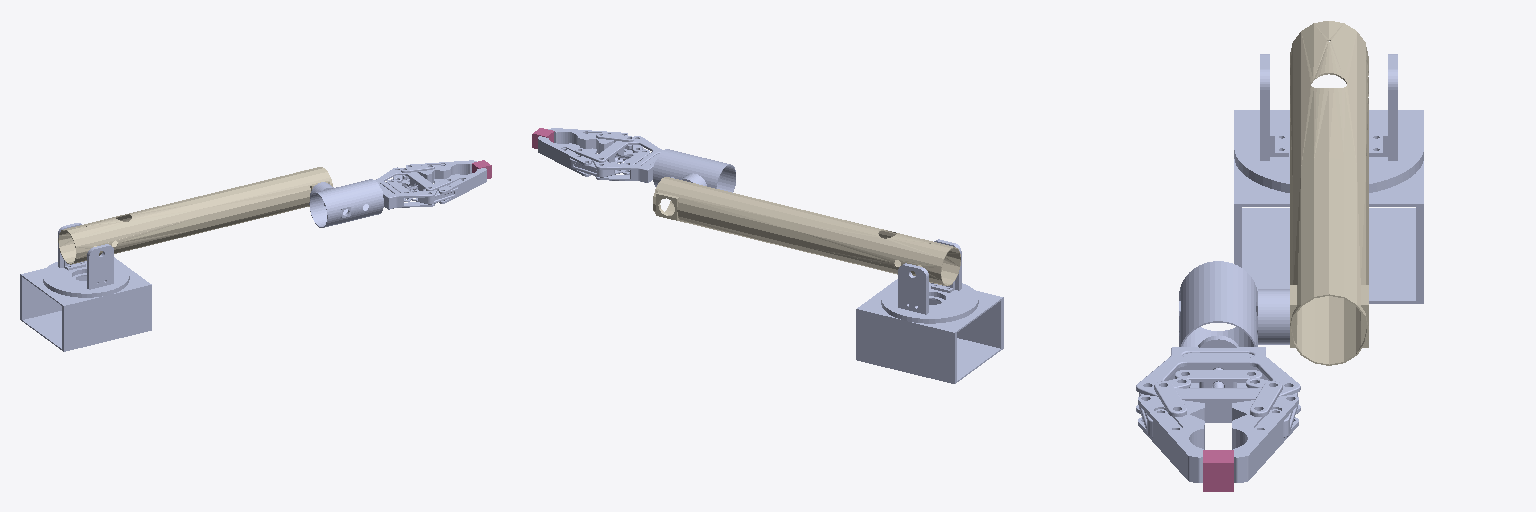
robot.urdf — msv_3dof_arm:
<?xml version="1.0" encoding="utf-8"?>
<!-- This URDF was automatically created by SolidWorks to URDF Exporter! Originally created by [author] ([email redacted]) 
     Commit Version: 1.6.0-1-g15f4949  Build Version: 1.6.7594.29634
     For more information, please see http://wiki.ros.org/sw_urdf_exporter -->
<robot
  name="msv_3dof_arm">
 
 
  <link name="base_link">
    <inertial>
      <origin
        xyz="0 0 0.07"
        rpy="1.570796327 0 0" />
      <mass
        value="0.156772566611769" />
      <inertia
        ixx="0.000494148301397321"
        ixy="-2.6240374845148E-21"
        ixz="-7.90564084104019E-21"
        iyy="0.000368498301397322"
        iyz="-2.92371927043028E-20"
        izz="0.000646691913743825" />
    </inertial>
    <visual>
      <origin
        xyz="0 0 0.07"
        rpy="1.570796327 0 0" />
      <geometry>
        <mesh
          filename="package://msv_3dof_arm/meshes/base_link.STL" />
      </geometry>
      <material
        name="">
        <color
          rgba="0.792156862745098 0.819607843137255 0.933333333333333 1" />
      </material>
    </visual>
    <collision>
      <origin
        xyz="0 0 0.07"
        rpy="1.570796327 0 0" />
      <geometry>
        <mesh
          filename="package://msv_3dof_arm/meshes/base_link.STL" />
      </geometry>
    </collision>
  </link>


  <link name="link1">
    <inertial>
      <origin
        xyz="0.110728673410591 -0.0092714182188576 -0.0425649356498366"
        rpy="1.570796327 0 0" />
      <mass
        value="0.433898677133809" />
      <inertia
        ixx="0.0016639828460917"
        ixy="0.00120863202140725"
        ixz="-0.00204502780751148"
        iyy="0.0125493047119251"
        iyz="0.000171227036330293"
        izz="0.0124511366596275" />
    </inertial>
    <visual>
      <origin
        xyz="0 0 -0.05635"
        rpy="1.570796327 0 0" />
      <geometry>
        <mesh
          filename="package://msv_3dof_arm/meshes/link1.STL" />
      </geometry>
      <material
        name="">
        <color
          rgba="0.792156862745098 0.819607843137255 0.933333333333333 1" />
      </material>
    </visual>
    <collision>
      <origin
        xyz="0 0 -0.05635"
        rpy="1.570796327 0 0" />
      <geometry>
        <mesh
          filename="package://msv_3dof_arm/meshes/link1.STL" />
      </geometry>
    </collision>
  </link>


  <joint name="joint_base"  type="revolute">
    <origin
      xyz="0 0 0.12635"
      rpy="0 0 0" />
    <parent
      link="base_link" />
    <child
      link="link1" />
    <axis
      xyz="0 0 1" />
    <limit
      lower="-6.283185307"
      upper="6.283185307"
      effort="10"
      velocity="5" />
  </joint>


  <link  name="link2">
    <inertial>
      <origin
        xyz="0.184976916380391 0 0"
        rpy="0 0 0" />
      <mass
        value="0.114971943053287" />
      <inertia
        ixx="6.92181720797658E-05"
        ixy="6.99722840783902E-10"
        ixz="1.68954468947633E-09"
        iyy="0.00172567923104233"
        iyz="4.70686983653976E-09"
        izz="0.0017235177638611" />
    </inertial>
    <visual>
      <origin
        xyz="0 -0.05635 0"
        rpy="0 0 0" />
      <geometry>
        <mesh
          filename="package://msv_3dof_arm/meshes/link2.STL" />
      </geometry>
      <material
        name="">
        <color
          rgba="0.843137254901961 0.815686274509804 0.752941176470588 1" />
      </material>
    </visual>
    <collision>
      <origin
        xyz="0 -0.05635 0"
        rpy="0 0 0" />
      <geometry>
        <mesh
          filename="package://msv_3dof_arm/meshes/link2.STL" />
      </geometry>
    </collision>
  </link>


  <joint name="joint_shoulder" type="revolute">
    <origin
      xyz="0 0 0"
      rpy="1.5708 0 0" />
    <parent
      link="link1" />
    <child
      link="link2" />
    <axis
      xyz="0 0 1" />
    <limit
      lower="0"
      upper="1.5707963"
      effort="10"
      velocity="5" />
  </joint>


  <link name="link3">
    <inertial>
      <origin
        xyz="-0.249271326589409 -0.0425649356498366 0.00927141821885761"
        rpy="0 0 0" />
      <mass
        value="0.433898677133809" />
      <inertia
        ixx="0.0016639828460917"
        ixy="-0.00204502780751148"
        ixz="-0.00120863202140725"
        iyy="0.0124511366596275"
        iyz="-0.000171227036330293"
        izz="0.0125493047119251" />
    </inertial>
    <visual>
      <origin
        xyz="-0.36 -0.05635 0"
        rpy="0 0 0" />
      <geometry>
        <mesh
          filename="package://msv_3dof_arm/meshes/link3.STL" />
      </geometry>
      <material
        name="">
        <color
          rgba="0.792156862745098 0.819607843137255 0.933333333333333 1" />
      </material>
    </visual>
    <collision>
      <origin
        xyz="-0.36 -0.05635 0"
        rpy="0 0 0" />
      <geometry>
        <mesh
          filename="package://msv_3dof_arm/meshes/link3.STL" />
      </geometry>
    </collision>
  </link>


  <joint  name="joint_elbow" type="revolute">
    <origin
      xyz="0.36 0 0"
      rpy="0 0 0" />
    <parent
      link="link2" />
    <child
      link="link3" />
    <axis
      xyz="0 0 1" />
    <limit
      lower="-6.283185307"
      upper="6.283185307"
      effort="10"
      velocity="5" />
  </joint>


  <link name="finger1">
    <inertial>
      <origin
        xyz="-0.370997344849409 0.0161756785111424 -0.0425649356498366"
        rpy="0 0 0" />
      <mass
        value="0.433898677133809" />
      <inertia
        ixx="0.0016639828460917"
        ixy="0.00120863202140725"
        ixz="-0.00204502780751148"
        iyy="0.0125493047119251"
        iyz="0.000171227036330293"
        izz="0.0124511366596275" />
    </inertial>
    <visual>
      <origin
        xyz="-0.48173 0.025447 -0.05635"
        rpy="1.570796327 0 0" />
      <geometry>
        <mesh
          filename="package://msv_3dof_arm/meshes/finger1.STL" />
      </geometry>
      <material
        name="">
        <color
          rgba="0.792156862745098 0.819607843137255 0.933333333333333 1" />
      </material>
    </visual>
    <collision>
      <origin
        xyz="-0.48173 0.025447 -0.05635"
        rpy="1.570796327 0 0" />
      <geometry>
        <mesh
          filename="package://msv_3dof_arm/meshes/finger1.STL" />
      </geometry>
    </collision>
  </link>


  <joint name="joint_finger1" type="revolute">
    <origin
      xyz="0.12173 0 0.025447"
      rpy="-1.5708 0 0" />
    <parent
      link="link3" />
    <child
      link="finger1" />
    <axis
      xyz="0 0 1" />
    <limit
      lower="-1"
      upper="2"
      effort="10"
      velocity="5" />
  </joint>


  <link name="finger2">
    <inertial>
      <origin
        xyz="-0.370997344849409 0.105281485051142 -0.0425649356498366"
        rpy="0 0 0" />
      <mass
        value="0.433898677133809" />
      <inertia
        ixx="0.0016639828460917"
        ixy="0.00120863202140725"
        ixz="-0.00204502780751148"
        iyy="0.0125493047119251"
        iyz="0.000171227036330293"
        izz="0.0124511366596275" />
    </inertial>
    <visual>
      <origin
        xyz="-0.48173 0.11455 -0.05635"
        rpy="1.570796327 0 0" />
      <geometry>
        <mesh
          filename="package://msv_3dof_arm/meshes/finger2.STL" />
      </geometry>
      <material
        name="">
        <color
          rgba="0.792156862745098 0.819607843137255 0.933333333333333 1" />
      </material>
    </visual>
    <collision>
      <origin
        xyz="-0.48173 0.11455 -0.05635"
        rpy="1.570796327 0 0" />
      <geometry>
        <mesh
          filename="package://msv_3dof_arm/meshes/finger2.STL" />
      </geometry>
    </collision>
  </link>


  <joint name="joint_finger2" type="revolute">
    <origin
      xyz="0.12173 0 0.11455"
      rpy="-1.5708 0 0" />
    <parent
      link="link3" />
    <child
      link="finger2" />
    <axis
      xyz="0 0 1" />
    <limit
      lower="-2"
      upper="1"
      effort="10"
      velocity="5" />
  </joint>

<!-- Grasping frame -->

  <link name="grasping_frame">
    <inertial>
      <origin rpy="0 0 0" xyz="0 0 0"/>
      <mass value="0.0001"/>
      <cuboid_inertia mass="0.0001" x="0.001" y="0.001" z="0.001"/>
      <inertia ixx="1.0" ixy="0.0" ixz="0.0" iyy="100.0" iyz="0.0" izz="1.0"/>
    </inertial>
    <visual>
      <origin xyz="0 0 0"/>
      <geometry>
        <box size="0.02 0.02 0.02"/>
      </geometry>
      <material name="White"/>
    </visual>
  </link>


  <joint name="grasping_frame_joint" type="fixed">
    <parent link="link3"/>
    <child link="grasping_frame"/>
    <origin rpy="0 0 0" xyz="0.23 0 0.07"/>
  </joint>

<!-- ///////////////////////////////////////////////////////////////////////////////////////////////////////////////////// -->
  <!-- Transmissions for ROS Control -->
  <transmission name="tran1">
    <type>transmission_interface/SimpleTransmission</type>
    <joint name="joint_base">
      <hardwareInterface>hardware_interface/PositionJointInterface</hardwareInterface>
    </joint>
    <actuator name="motor1">
      <hardwareInterface>PositionJointInterface</hardwareInterface>
      <mechanicalReduction>1</mechanicalReduction>
    </actuator>
  </transmission>

  <transmission name="tran1">
    <type>transmission_interface/SimpleTransmission</type>
    <joint name="joint_shoulder">
      <hardwareInterface>hardware_interface/PositionJointInterface</hardwareInterface>
    </joint>
    <actuator name="motor1">
      <hardwareInterface>PositionJointInterface</hardwareInterface>
      <mechanicalReduction>1</mechanicalReduction>
    </actuator>
  </transmission>

  <transmission name="tran1">
    <type>transmission_interface/SimpleTransmission</type>
    <joint name="joint_elbow">
      <hardwareInterface>hardware_interface/PositionJointInterface</hardwareInterface>
    </joint>
    <actuator name="motor1">
      <hardwareInterface>PositionJointInterface</hardwareInterface>
      <mechanicalReduction>1</mechanicalReduction>
    </actuator>
  </transmission>

  <transmission name="tran1">
    <type>transmission_interface/SimpleTransmission</type>
    <joint name="joint_finger1">
      <hardwareInterface>hardware_interface/PositionJointInterface</hardwareInterface>
    </joint>
    <actuator name="motor1">
      <hardwareInterface>PositionJointInterface</hardwareInterface>
      <mechanicalReduction>1</mechanicalReduction>
    </actuator>
  </transmission>

  <transmission name="tran1">
    <type>transmission_interface/SimpleTransmission</type>
    <joint name="joint_finger2">
      <hardwareInterface>hardware_interface/PositionJointInterface</hardwareInterface>
    </joint>
    <actuator name="motor1">
      <hardwareInterface>PositionJointInterface</hardwareInterface>
      <mechanicalReduction>1</mechanicalReduction>
    </actuator>
  </transmission>

     <!-- ros_control plugin -->
  <gazebo>
    <plugin filename="libgazebo_ros_control.so" name="gazebo_ros_control">
      <robotNamespace>/msv_3dof_arm</robotNamespace>
    </plugin>
  </gazebo>




</robot>

--- What the picture shows (computed from the rendered views, not written in the file) ---
Views: 3 orthographic renders of the robot side by side, from view 1: azimuth 30°, elevation 25°; view 2: azimuth 150°, elevation 25°; view 3: azimuth 270°, elevation 25°.
Model msv_3dof_arm with 7 links and 6 joints (5 revolute, 1 fixed), rooted at base_link, posed all joints at 0.
Visible links, largest first — view 1: link2, base_link, link3, link1, finger2, finger1; view 2: link2, base_link, link3, link1, finger1, finger2; view 3: link2, link3, base_link, link1, finger2, finger1, grasping_frame.
Link boxes in pixels (x1,y1,x2,y2): link2: (58, 167, 332, 264); base_link: (20, 257, 151, 351); link3: (309, 167, 437, 227); link1: (43, 223, 129, 297); finger2: (410, 168, 486, 204); finger1: (393, 160, 476, 186); link2: (653, 177, 960, 285); base_link: (856, 279, 1003, 383); link3: (593, 136, 735, 192); link1: (881, 239, 978, 323); finger1: (538, 136, 623, 177); finger2: (548, 128, 642, 157); link2: (1290, 21, 1368, 365); link3: (1136, 261, 1300, 422); base_link: (1234, 110, 1423, 303); link1: (1234, 54, 1423, 192); finger2: (1138, 378, 1204, 482); finger1: (1232, 378, 1298, 482); grasping_frame: (1203, 450, 1233, 491).
Bounding box of the posed robot: 0.67 × 0.1821 × 0.1513 m (x, y, z).
6 mesh visuals loaded from 6 distinct referenced files (6 binary STL).
